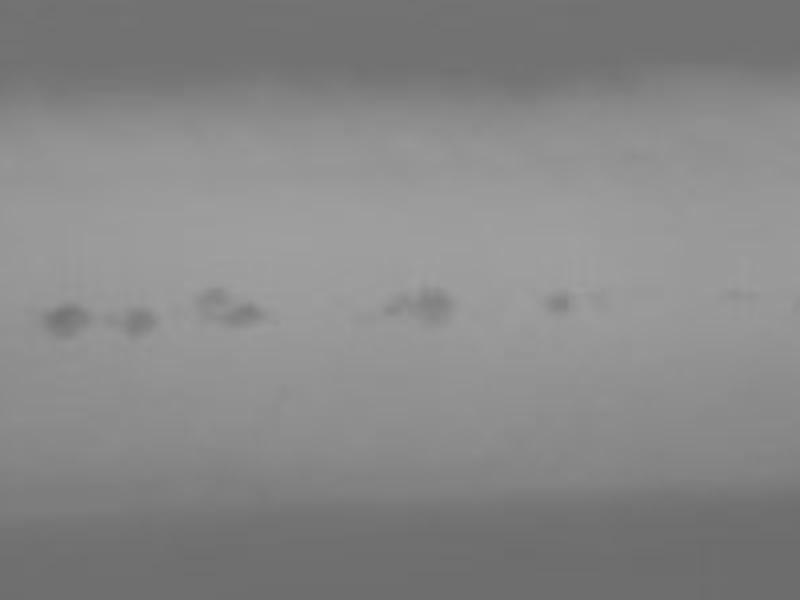defect: (407, 285, 452, 330), (49, 303, 86, 340), (119, 305, 154, 340), (190, 286, 225, 321), (228, 299, 261, 332), (547, 289, 572, 314), (386, 292, 405, 311), (723, 285, 738, 300)
